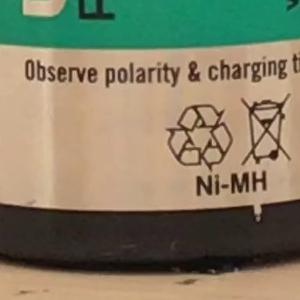NI-MH: (186, 160, 277, 206)
